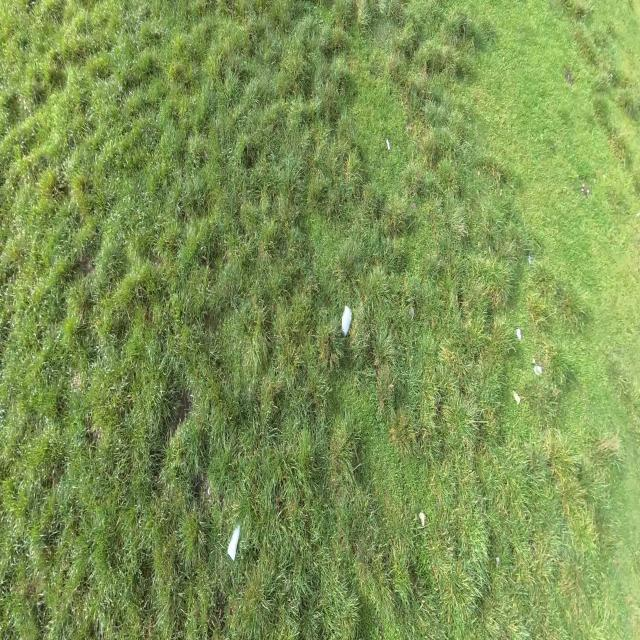rubbish: (227, 522, 241, 559), (341, 306, 353, 338), (511, 389, 522, 406), (532, 366, 544, 378), (516, 328, 521, 343)
